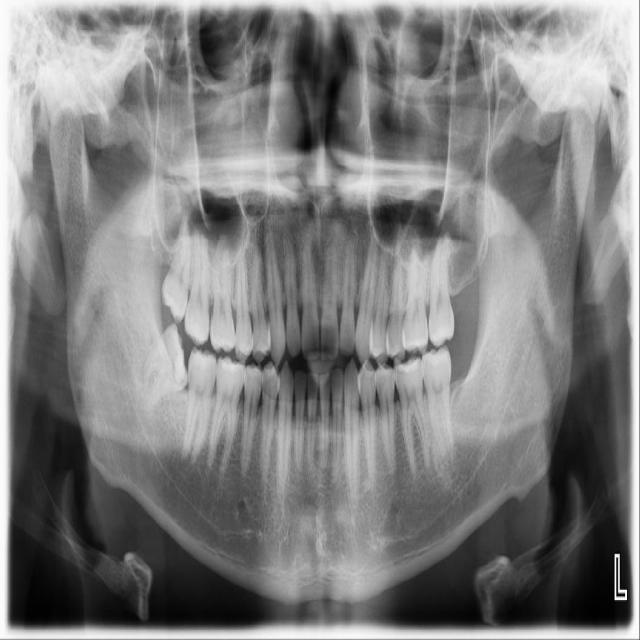3M ESPE Implant: (157, 214, 198, 325)
73: (588, 572, 596, 582)
BioHorizons Implant: (428, 233, 458, 348)
Blue Sky Bio Implant: (421, 344, 452, 454)
Caries: (184, 228, 210, 346)
Implant: (180, 345, 219, 462)
Keystone Dental Implant: (134, 321, 196, 412)
